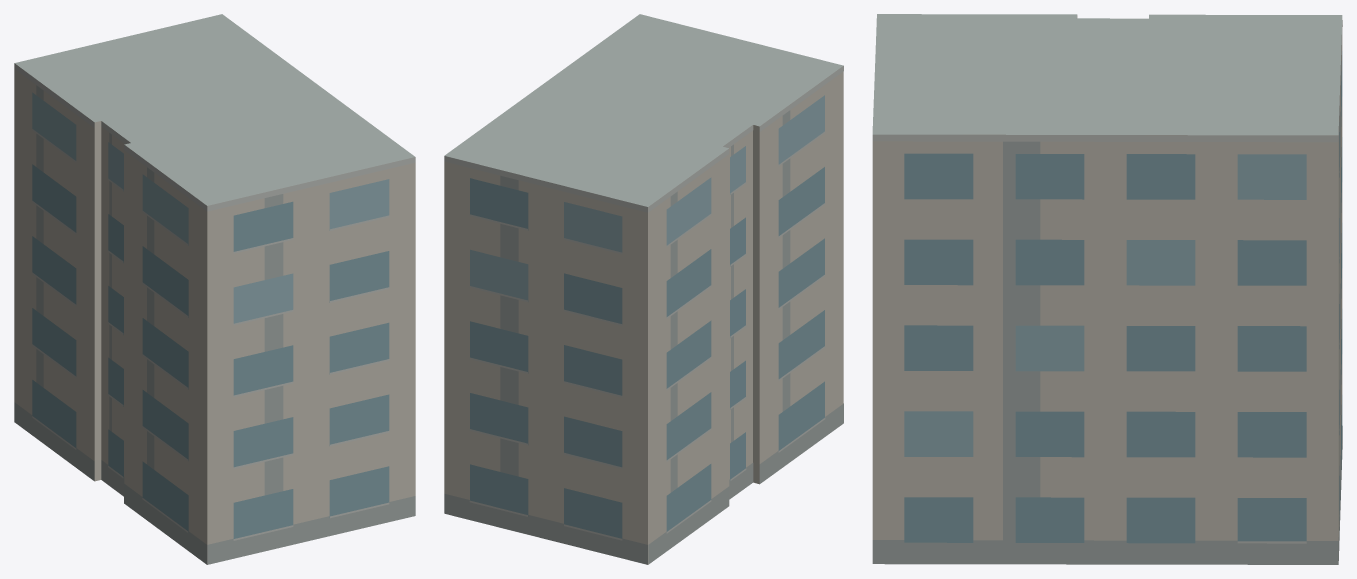
The model's file is survey-upis-32999955.glb.
3 views of the same model, side by side, from view 1: azimuth 30°, elevation 25°; view 2: azimuth 150°, elevation 25°; view 3: azimuth 270°, elevation 25° (orthographic). The views are drawn at different scales.
Parts seen in each view (by area): view 1: survey-upis-32999955.tmp; view 2: survey-upis-32999955.tmp; view 3: survey-upis-32999955.tmp.
Boxes of the visible parts, left/top/right/bottom form: survey-upis-32999955.tmp: left=14, top=14, right=415, bottom=564; survey-upis-32999955.tmp: left=444, top=14, right=843, bottom=564; survey-upis-32999955.tmp: left=872, top=14, right=1342, bottom=564.
Bounding box in the file's own units: 9.26 × 15.25 × 15.14.
